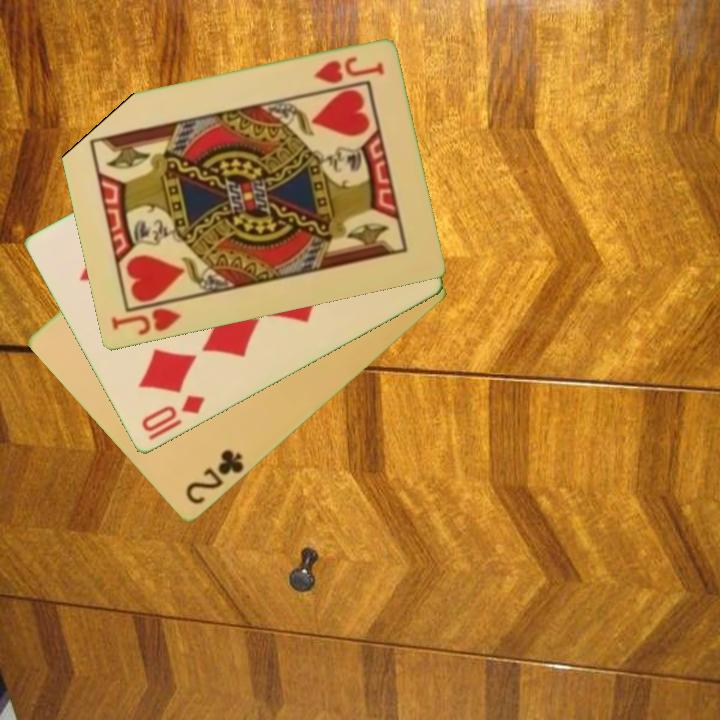10d: (137, 391, 208, 436)
2c: (182, 446, 247, 508)
Jh: (107, 296, 189, 339), (310, 53, 387, 88)
